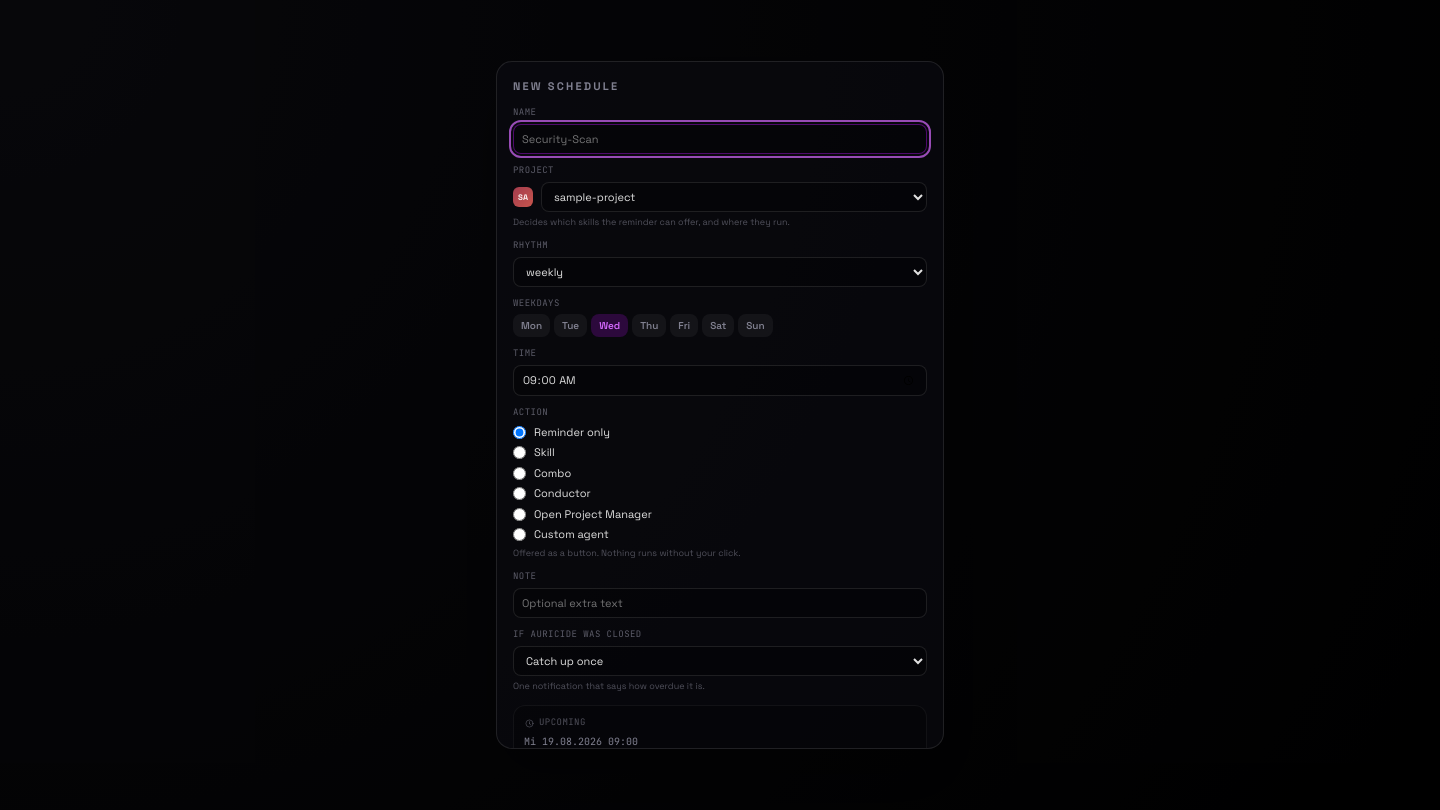
Test: ScheduleEditor › skill, combo, and the project they belong to › cannot save a Skill choice with nothing selected
Type "Weekly" into the field with test id "schedule-name" at (720, 139), box [513,124,927,154]
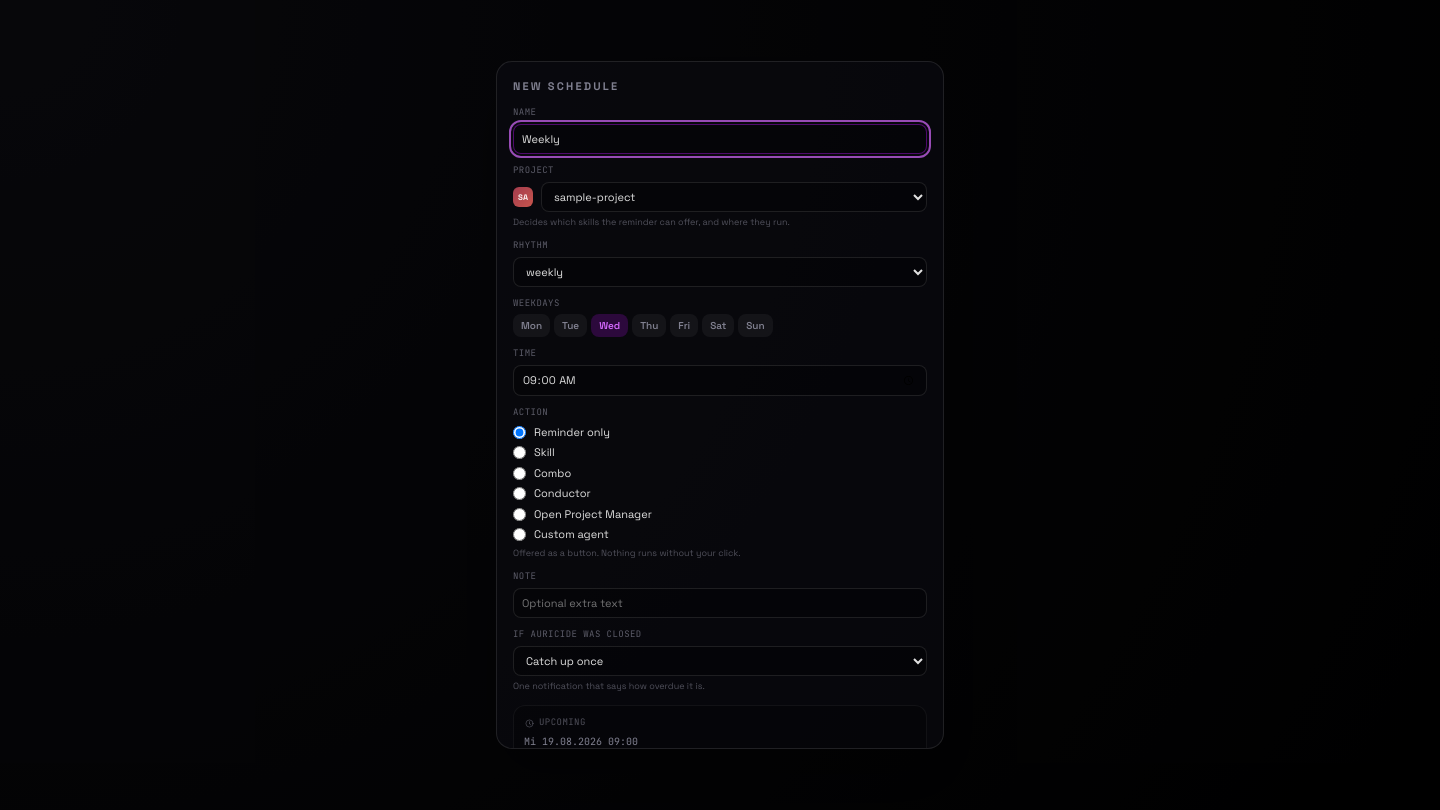
Click the radio button with test id "schedule-action-skill" at (520, 452), box [513,446,526,459]
(page scrolled)
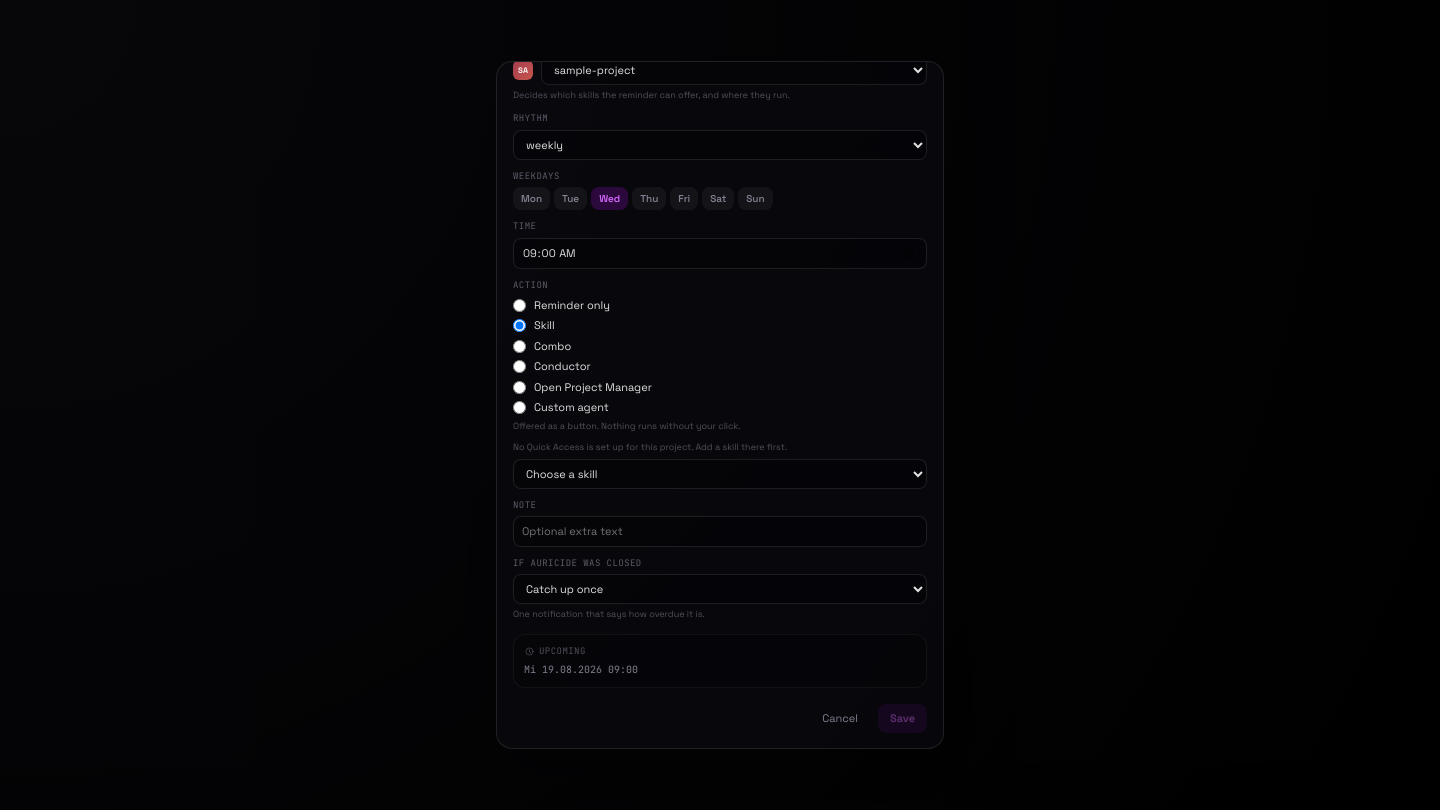
Expected: the button with test id "schedule-save" is disabled, [878,704,927,733]
